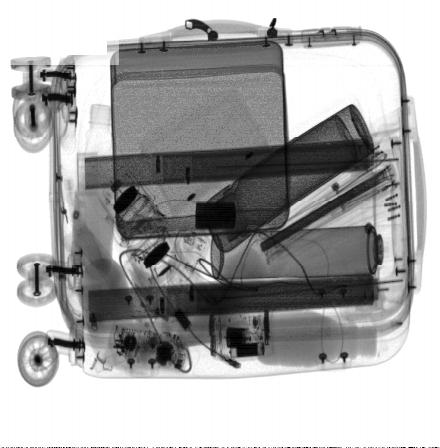Lighter: (194, 201, 237, 229)
Sprayer: (212, 225, 405, 280)
